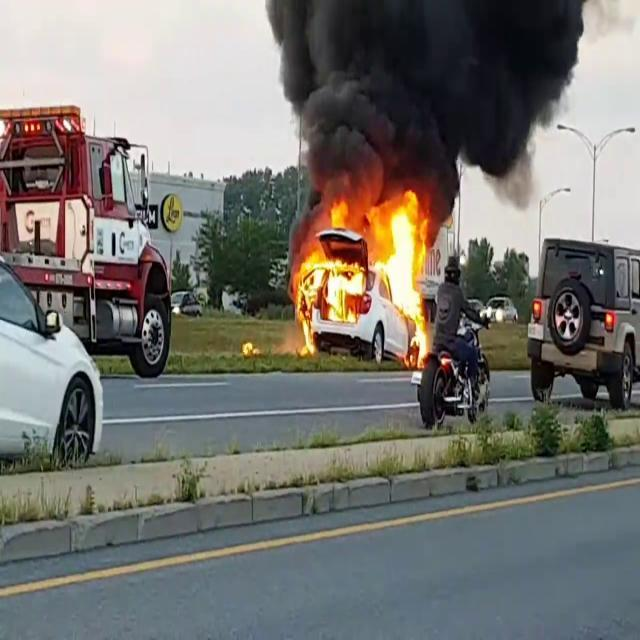Fire: (378, 189, 436, 359), (292, 241, 368, 348)
Smoke: (260, 0, 586, 196)
